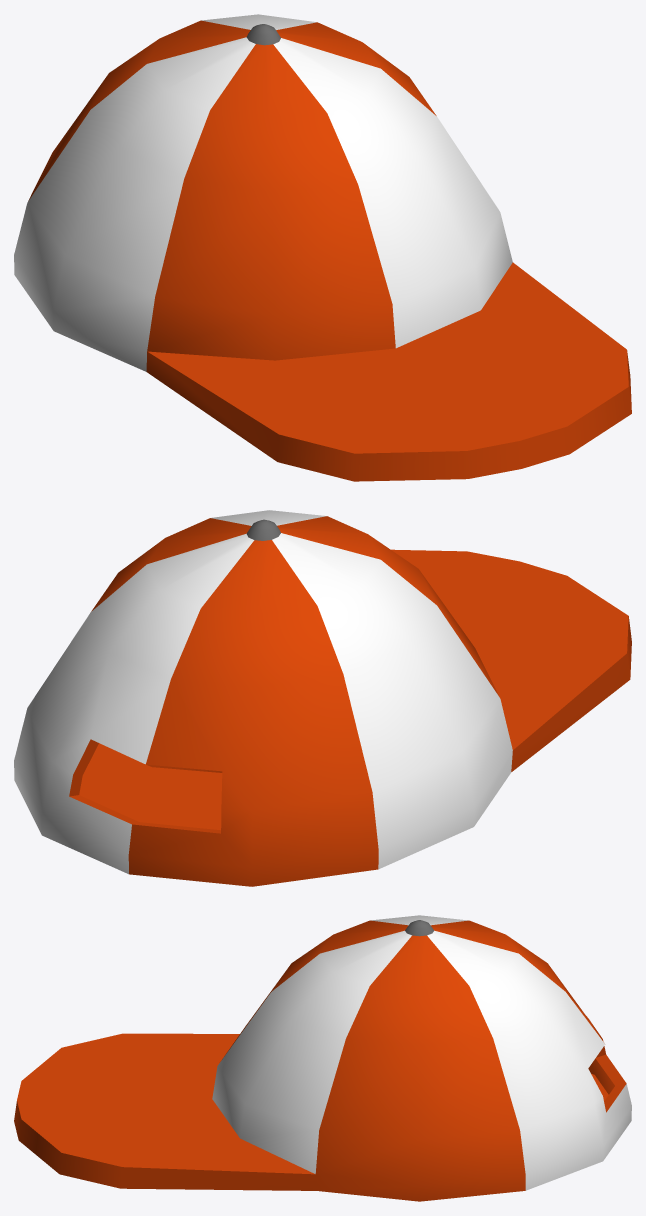
The model's file is Cap_1.fbx.
3 views of the same model, one above another, from view 1: azimuth 30°, elevation 25°; view 2: azimuth 150°, elevation 25°; view 3: azimuth 270°, elevation 25° (orthographic). The views are drawn at different scales.
Parts seen in each view (by area): view 1: Cap_1; view 2: Cap_1; view 3: Cap_1.
Boxes of the visible parts, bbox=[...] form: Cap_1: bbox=[14, 14, 631, 481]; Cap_1: bbox=[14, 510, 631, 886]; Cap_1: bbox=[14, 915, 631, 1201].
Bounding box in the file's own units: 0.151 × 0.0872 × 0.2443.
